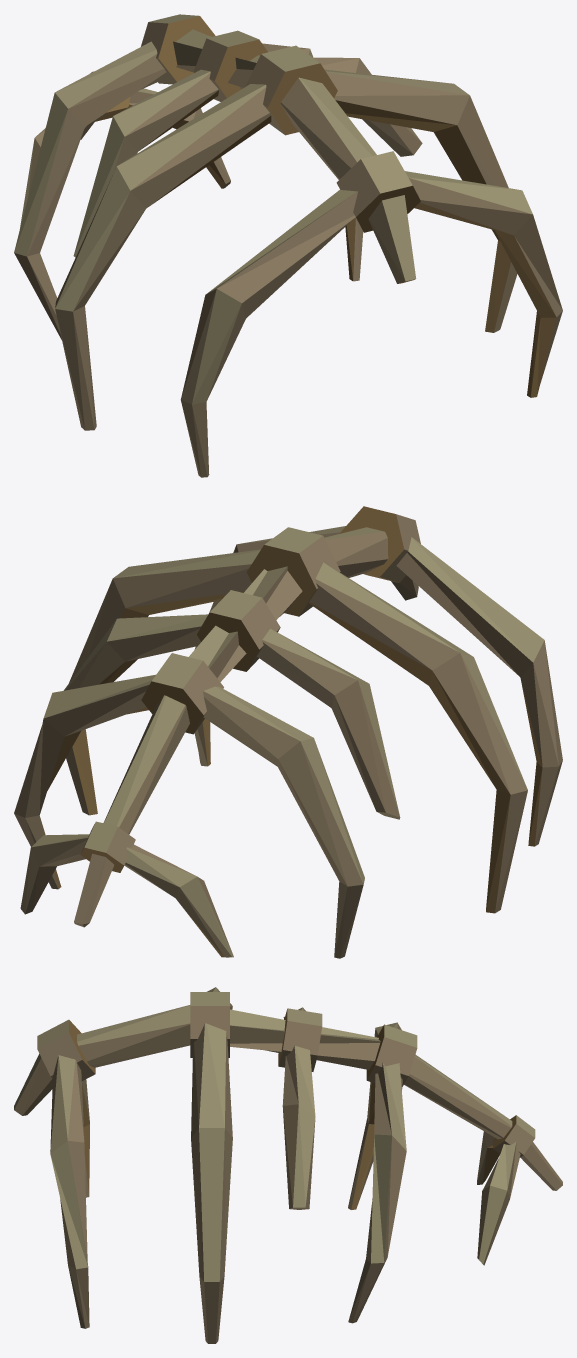
Rendered from TB_D_Env_BoneB_B.FBX.
The picture shows the model from 3 angles, top to bottom: view 1: azimuth 30°, elevation 25°; view 2: azimuth 150°, elevation 25°; view 3: azimuth 270°, elevation 25°; orthographic projection. The views are drawn at different scales.
Visible parts, largest first — view 1: TB_D_Env_BoneB_B; view 2: TB_D_Env_BoneB_B; view 3: TB_D_Env_BoneB_B.
Part boxes in pixels (<box>): TB_D_Env_BoneB_B: <box>14,14,562,477</box>; TB_D_Env_BoneB_B: <box>14,506,562,958</box>; TB_D_Env_BoneB_B: <box>14,987,562,1343</box>.
Size of the model in its own units: 4.52 by 2.95 by 5.59.
